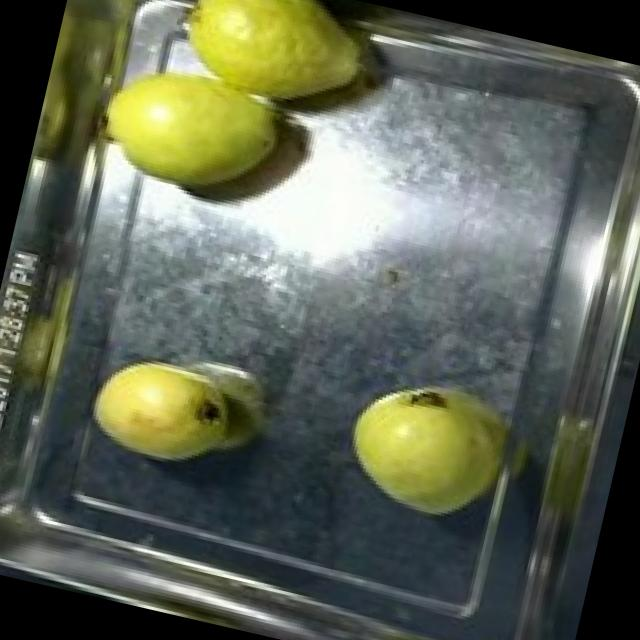Fruit: (73, 31, 304, 223), (73, 326, 290, 494), (328, 356, 520, 536), (150, 0, 385, 134)
